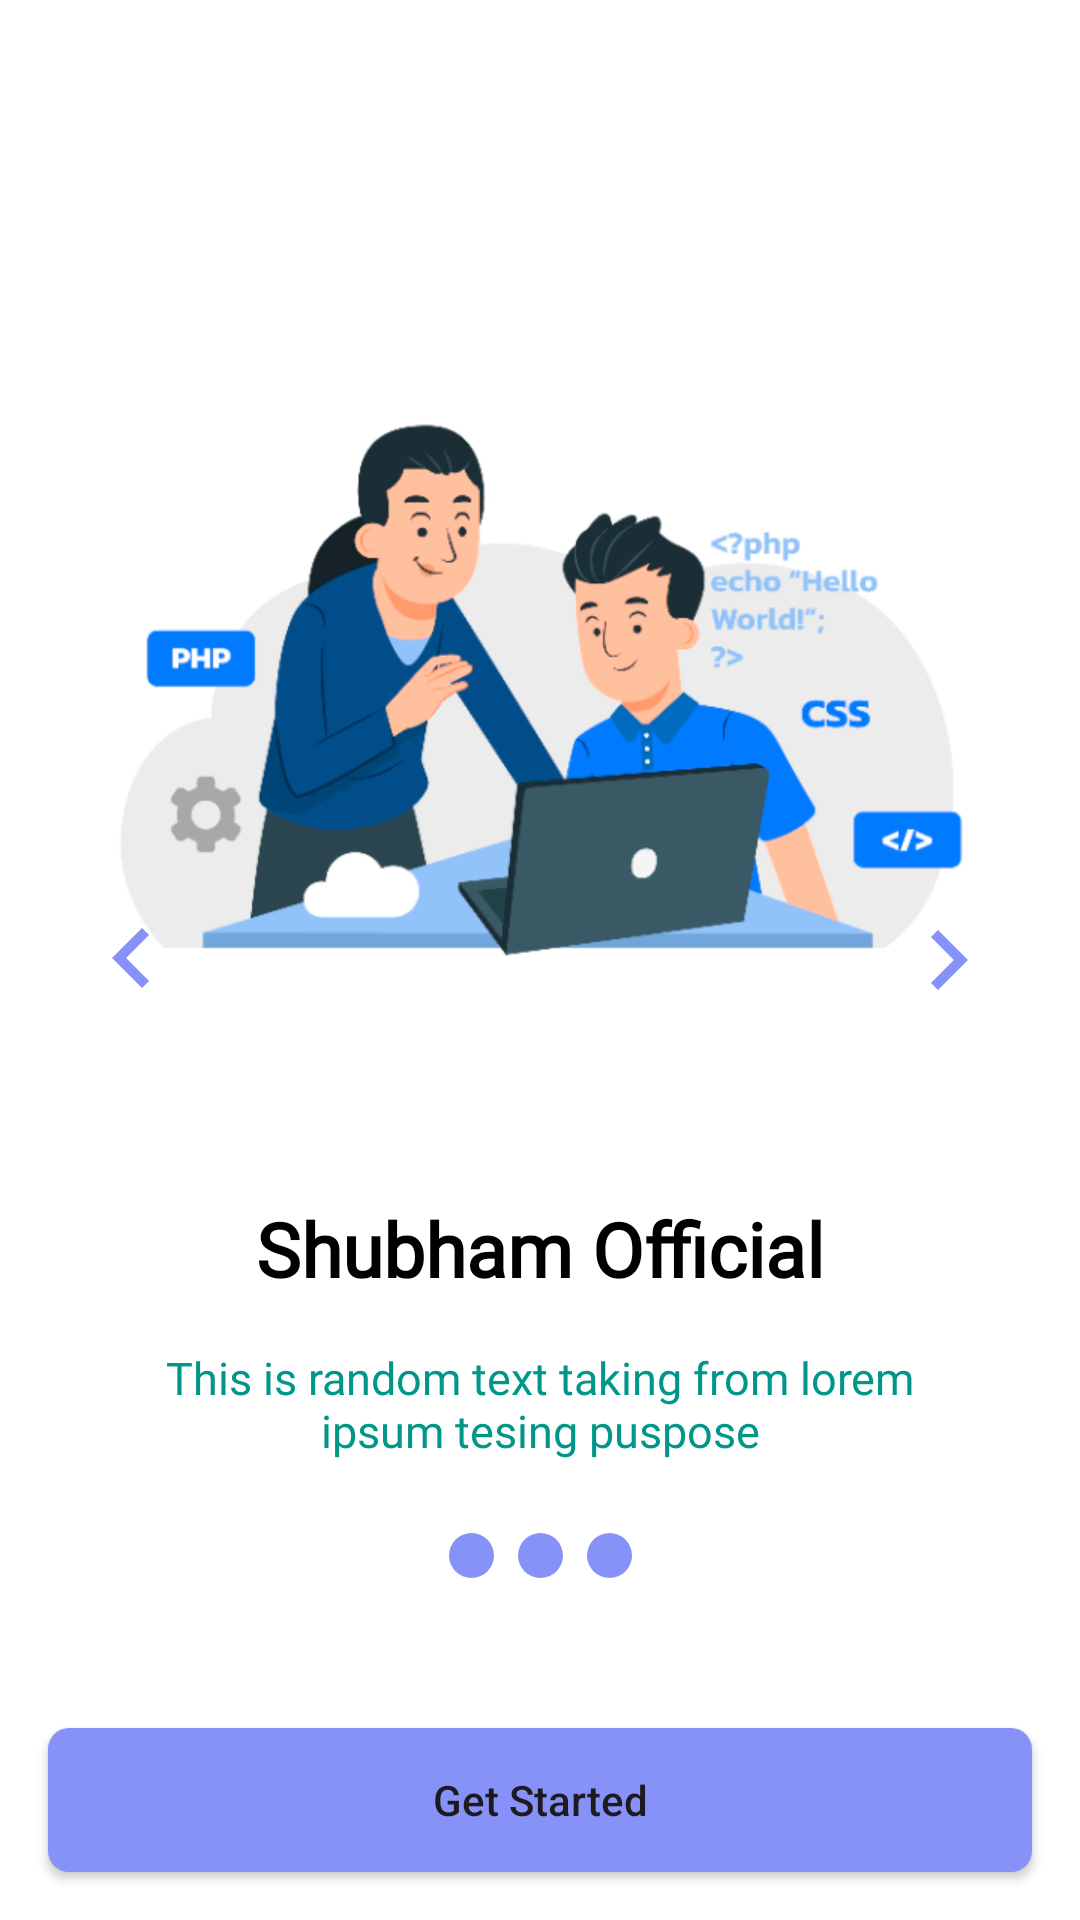

Where to tap for icons on this 1080w x 1920h app screen, as point (x, y):
back: point (130, 958)
next: point (949, 960)
